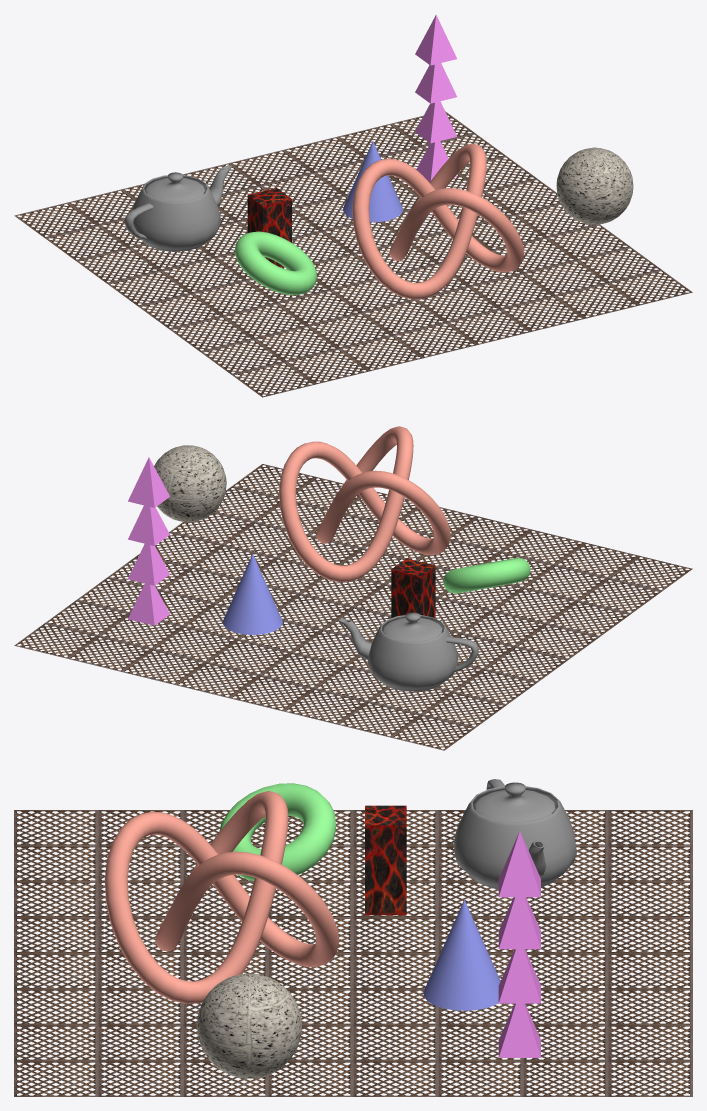
The model's file is modellosore.DAE.
3 renders of one model, top to bottom at view 1: azimuth 30°, elevation 25°; view 2: azimuth 150°, elevation 25°; view 3: azimuth 270°, elevation 25°, orthographic. The views are drawn at different scales.
Parts seen in each view (by area): view 1: Plane001, Torus Knot001, Teapot001, Sphere001, Torus001, Box001, Cone001, Pyramid004, Pyramid002, Pyramid003, Pyramid001; view 2: Plane001, Torus Knot001, Teapot001, Sphere001, Cone001, Box001, Torus001, Pyramid004, Pyramid001, Pyramid002, Pyramid003; view 3: Plane001, Torus Knot001, Teapot001, Sphere001, Cone001, Box001, Torus001, Pyramid004, Pyramid002, Pyramid003, Pyramid001.
Part boxes in pixels (x1,y1,x2,y2): Plane001: [14, 111, 692, 397]; Torus Knot001: [352, 143, 523, 299]; Teapot001: [124, 165, 231, 251]; Sphere001: [556, 147, 633, 224]; Torus001: [235, 231, 316, 295]; Box001: [247, 188, 291, 267]; Cone001: [343, 141, 402, 222]; Pyramid004: [415, 14, 456, 65]; Pyramid002: [415, 101, 457, 143]; Pyramid003: [415, 63, 456, 103]; Pyramid001: [416, 141, 457, 182]; Plane001: [14, 464, 692, 750]; Torus Knot001: [279, 426, 450, 581]; Teapot001: [338, 612, 478, 691]; Sphere001: [154, 445, 226, 522]; Cone001: [222, 553, 282, 634]; Box001: [391, 558, 435, 618]; Torus001: [443, 558, 530, 593]; Pyramid004: [128, 457, 169, 507]; Pyramid001: [128, 583, 169, 625]; Pyramid002: [128, 544, 169, 585]; Pyramid003: [128, 505, 169, 545]; Plane001: [14, 810, 692, 1096]; Torus Knot001: [104, 791, 339, 1003]; Teapot001: [453, 779, 576, 889]; Sphere001: [196, 973, 301, 1078]; Cone001: [423, 899, 500, 1010]; Box001: [365, 805, 406, 915]; Torus001: [219, 783, 335, 880]; Pyramid004: [498, 831, 540, 897]; Pyramid002: [498, 949, 540, 1003]; Pyramid003: [498, 897, 540, 949]; Pyramid001: [498, 1003, 540, 1057].
Size of the model in its own units: 269 by 90.92 by 256.
Materials: 8 (3 with a texture image).
